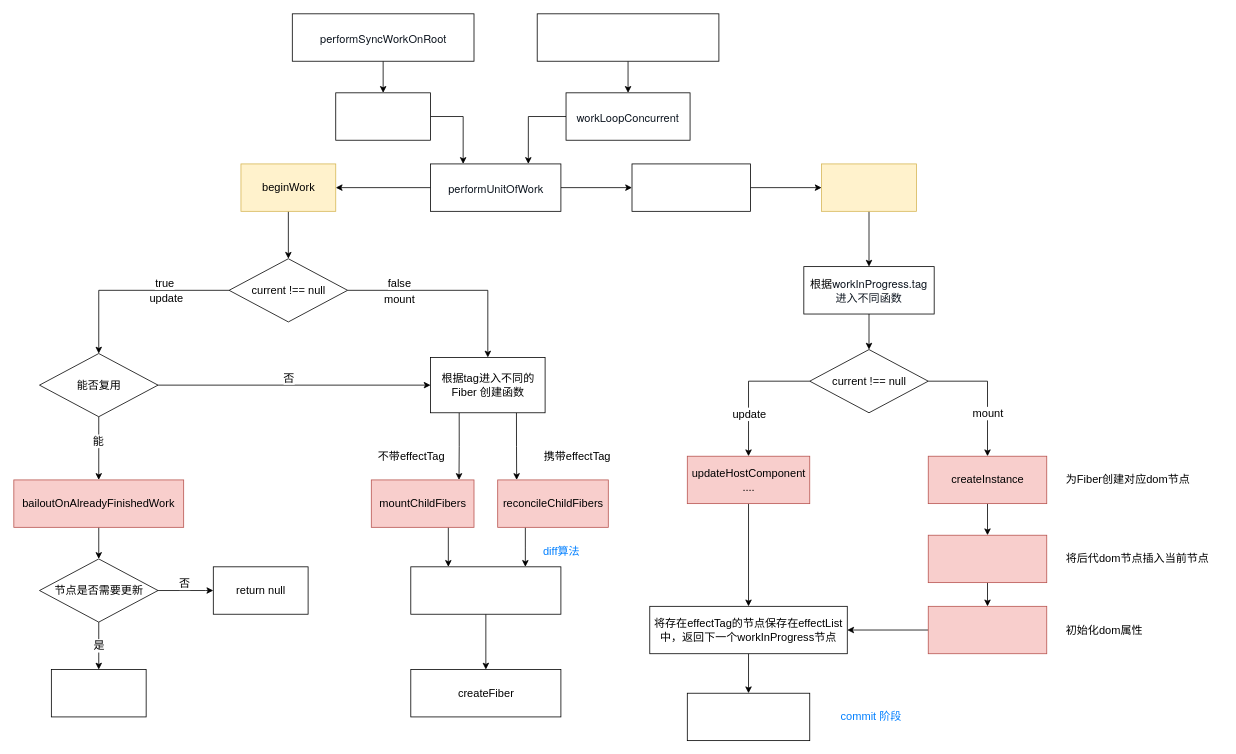
The diagram is 1236 pixels wide and 754 high, and some of its shapes have lost their labels. Here are the shapes that lost their labels. From the top down, the centre of each, then its label:
(627,37): performConcurrentWorkOnRoot
(383,116): workLoopSync
(690,187): completeUnitOfWork
(868,187): completeWork
(987,558): appendAllChildren
(485,590): ChildReconciler
(987,630): finalizeInitialChildren
(98,693): cloneChildFibers
(748,716): commitRoot
